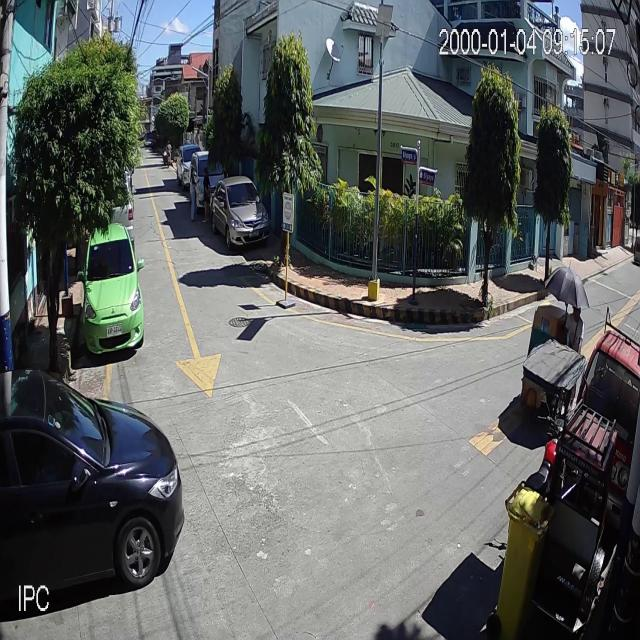standing: (201, 166, 212, 223), (189, 166, 200, 221)
